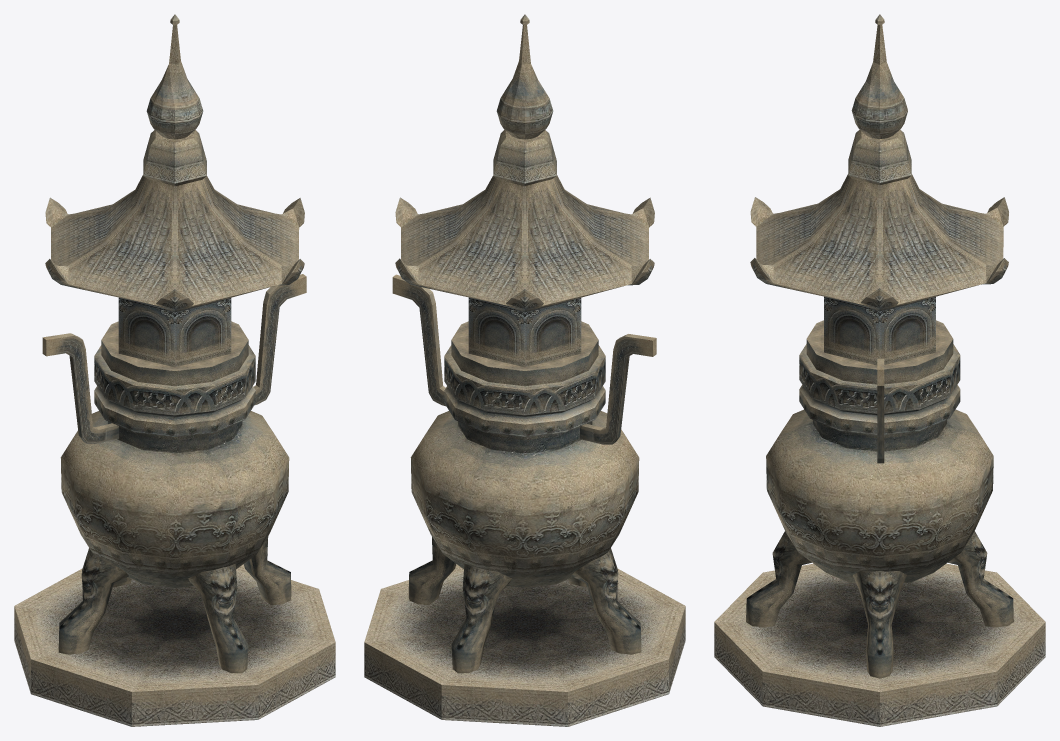
The model's file is desert_brazier.fbx.
The picture shows the model from 3 angles, left to right: view 1: azimuth 30°, elevation 25°; view 2: azimuth 150°, elevation 25°; view 3: azimuth 270°, elevation 25°; orthographic projection.
Parts seen in each view (by area): view 1: desert_brazier_02, desert_brazier_01; view 2: desert_brazier_02, desert_brazier_01; view 3: desert_brazier_02, desert_brazier_01.
Boxes of the visible parts, box(x1,y1,x2,y2) form: desert_brazier_02: box(14, 14, 335, 726); desert_brazier_01: box(42, 274, 306, 587); desert_brazier_02: box(364, 14, 685, 726); desert_brazier_01: box(392, 274, 656, 587); desert_brazier_02: box(714, 14, 1045, 726); desert_brazier_01: box(766, 320, 993, 583).
Bounding box in the file's own units: 2.06 × 4.42 × 2.06.
